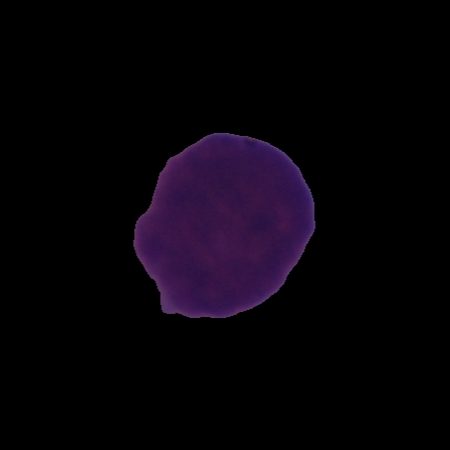ALL: (129, 127, 320, 323)
